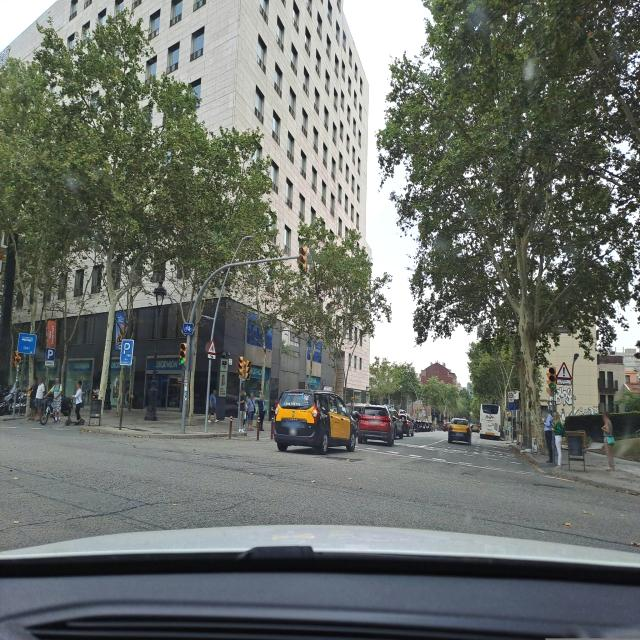bike: (40, 392, 64, 426)
car: (271, 388, 359, 454), (357, 404, 395, 446), (448, 417, 472, 445), (388, 408, 404, 439), (398, 412, 414, 436), (470, 421, 479, 433)
